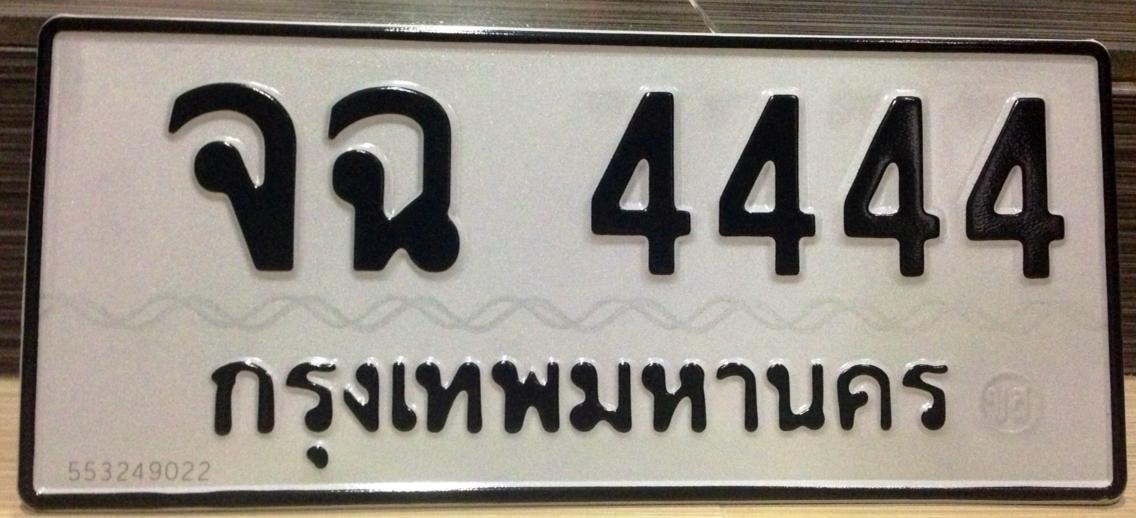txt06: (164, 77, 302, 279)
txt07: (322, 82, 464, 278)
